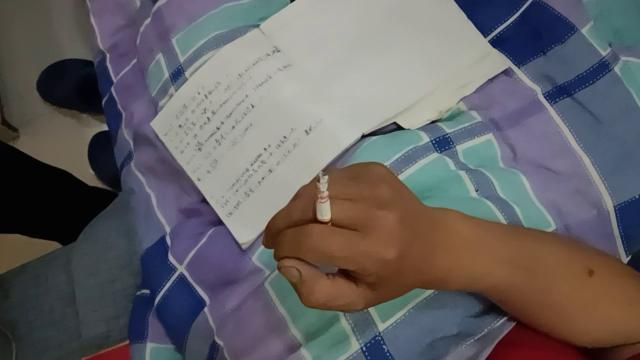Smoking: (316, 172, 332, 238)
